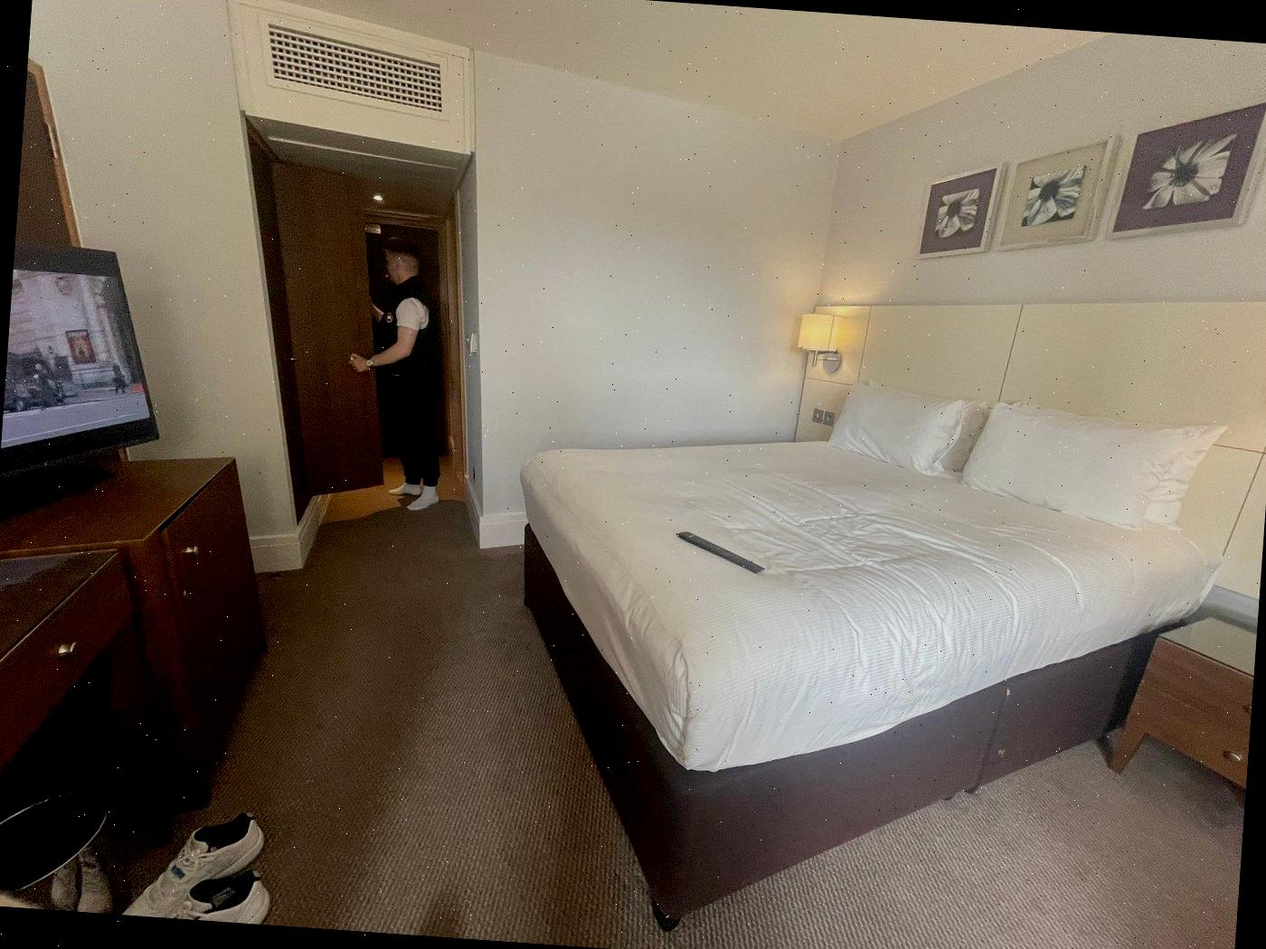clean_bed: (512, 307, 1266, 918)
organised_pillow: (805, 376, 1213, 547)
